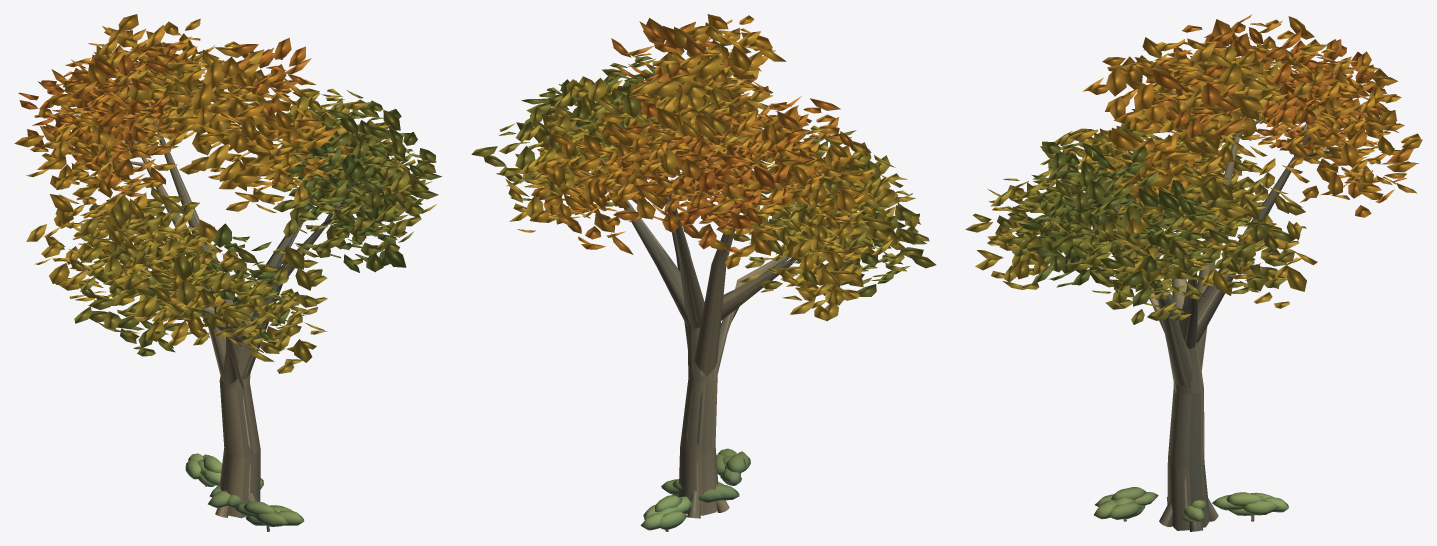
File: ART_TownTree.glb
3 renders of one model, left to right at view 1: azimuth 30°, elevation 25°; view 2: azimuth 150°, elevation 25°; view 3: azimuth 270°, elevation 25°, orthographic. The views are drawn at different scales.
Visible parts, largest first — view 1: ART_TownTree; view 2: ART_TownTree; view 3: ART_TownTree.
Part boxes in pixels (x1,y1,x2,y2): ART_TownTree: [14, 14, 441, 531]; ART_TownTree: [471, 14, 936, 531]; ART_TownTree: [965, 14, 1422, 531].
Size of the model in its own units: 8.68 by 10.4 by 8.97.
